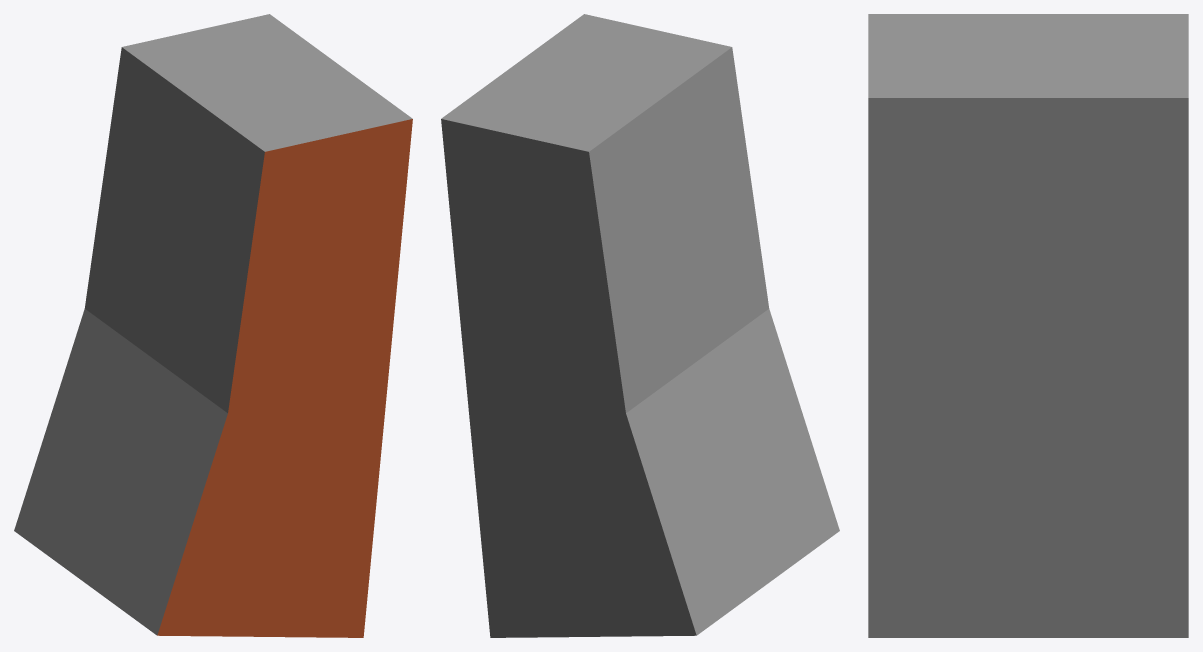
Rendered from construction_4633_assumed_A_Casa_h6m.obj.
The picture shows the model from 3 angles, left to right: view 1: azimuth 30°, elevation 25°; view 2: azimuth 150°, elevation 25°; view 3: azimuth 270°, elevation 25°; orthographic projection. The views are drawn at different scales.
Parts seen in each view (by area): view 1: construction_4633_assumed_A_Casa; view 2: construction_4633_assumed_A_Casa; view 3: construction_4633_assumed_A_Casa.
Boxes of the visible parts, left/top/right/bottom form: construction_4633_assumed_A_Casa: left=14, top=14, right=412, bottom=637; construction_4633_assumed_A_Casa: left=441, top=14, right=839, bottom=637; construction_4633_assumed_A_Casa: left=868, top=14, right=1188, bottom=637.
Bounding box in the file's own units: 6.18 × 11.79 × 6.
